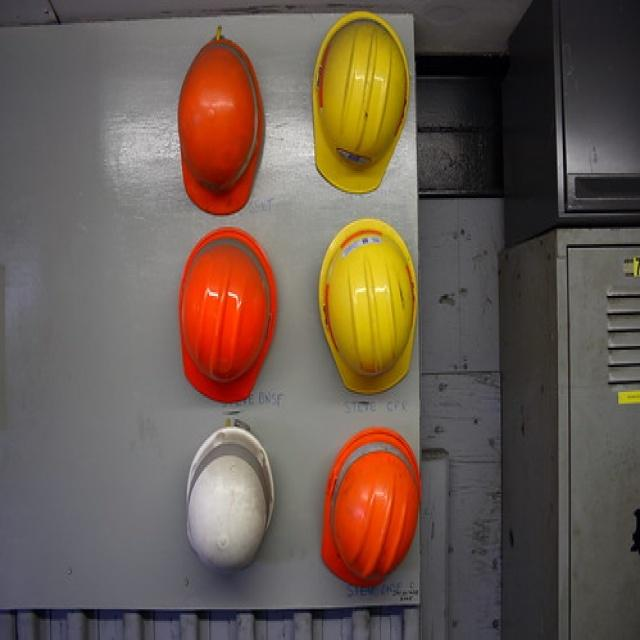helmet: (312, 3, 409, 264), (317, 290, 416, 534), (176, 300, 271, 539), (178, 49, 264, 288), (315, 571, 427, 640), (185, 564, 282, 640)
